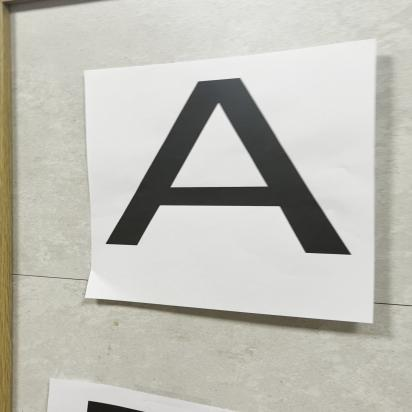seat: (97, 78, 377, 272)
